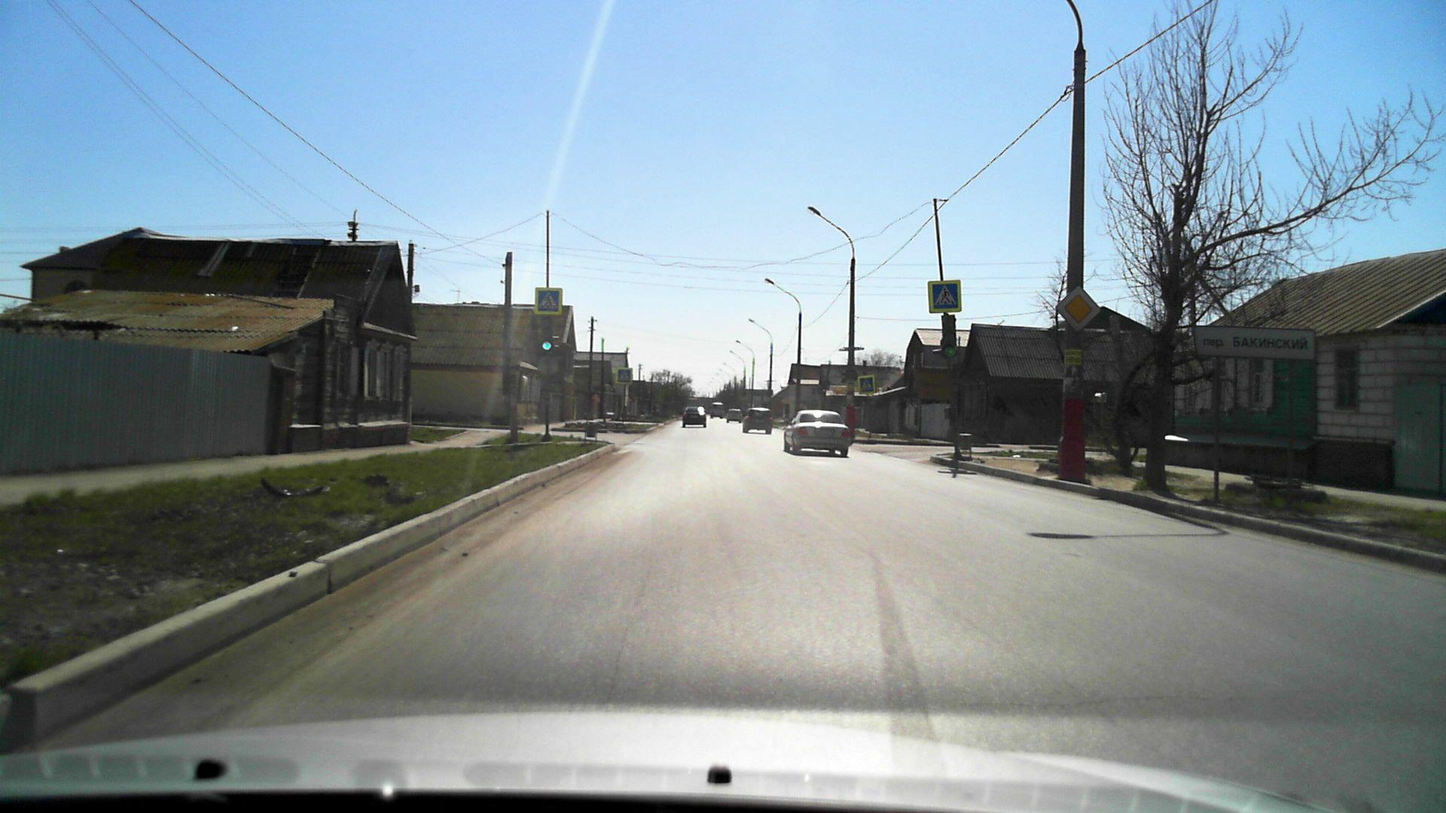road_sign: (1051, 280, 1105, 337), (927, 278, 963, 314), (534, 287, 562, 314)
traffic light: (539, 316, 553, 354)
